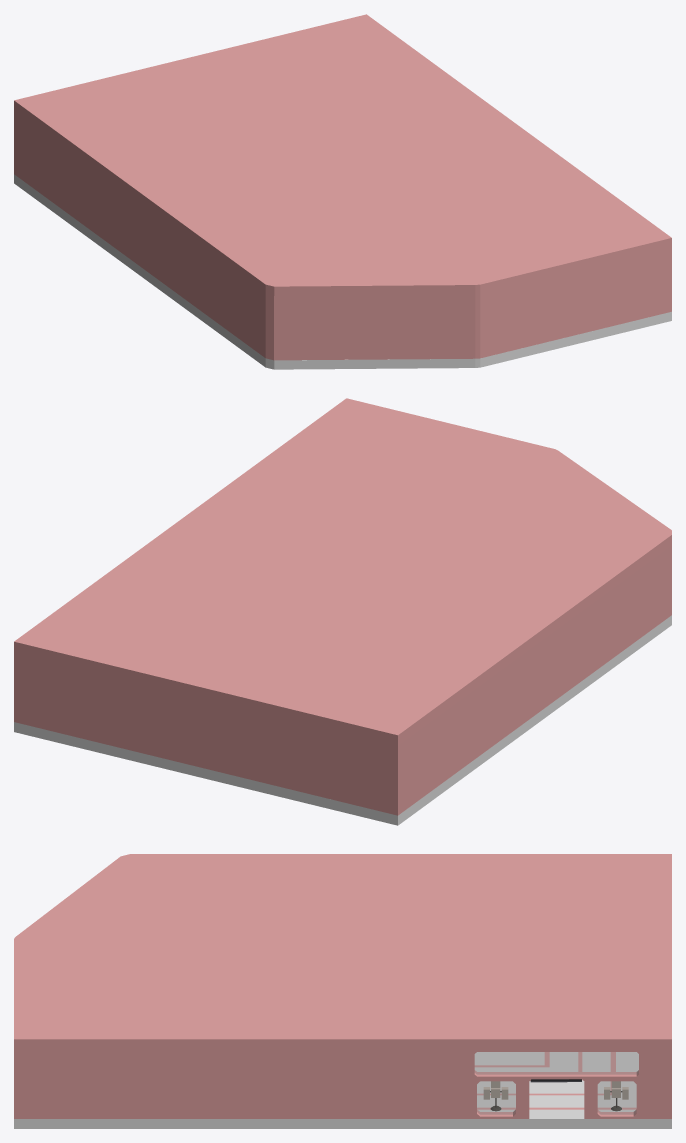
Rendered from Tienda de Disfraces.fbx.
The picture shows the model from 3 angles, top to bottom: view 1: azimuth 30°, elevation 25°; view 2: azimuth 150°, elevation 25°; view 3: azimuth 270°, elevation 25°; orthographic projection. The views are drawn at different scales.
Parts seen in each view (by area): view 1: Techo, pared_grande, Pared_mediana, Pared_mediana1, Piso_3, Esquina_1x10x27, Esquina_1x10x2, esquina_O_Pequeña; view 2: Techo, Pared_1x10x36, pared_grande, Piso_3, Esquina_1x10x2, Esquina_1x10x34; view 3: Techo, Fachada_3, Piso_3, Vidrio_Disc_3, Esquina_1x10x27, Esquina_1x10x34, Vidrio_DIs_1, Vidrio_Dis_2.
Boxes of the visible parts, <box> form: Techo: <box>14,14,671,295</box>; pared_grande: <box>24,117,265,357</box>; Pared_mediana: <box>274,294,475,360</box>; Pared_mediana1: <box>480,251,654,358</box>; Piso_3: <box>14,174,671,369</box>; Esquina_1x10x27: <box>654,247,671,315</box>; Esquina_1x10x2: <box>14,110,24,181</box>; esquina_O_Pequeña: <box>265,294,273,360</box>; Techo: <box>14,398,671,745</box>; Pared_1x10x36: <box>33,656,378,810</box>; pared_grande: <box>409,545,671,807</box>; Piso_3: <box>14,615,671,825</box>; Esquina_1x10x2: <box>378,737,408,815</box>; Esquina_1x10x34: <box>14,651,33,726</box>; Techo: <box>14,854,671,1049</box>; Fachada_3: <box>36,1049,649,1118</box>; Piso_3: <box>14,1052,671,1128</box>; Vidrio_Disc_3: <box>475,1052,638,1074</box>; Esquina_1x10x27: <box>14,1049,35,1118</box>; Esquina_1x10x34: <box>650,1049,671,1118</box>; Vidrio_DIs_1: <box>598,1081,636,1114</box>; Vidrio_Dis_2: <box>477,1081,515,1114</box>.
Bounding box in the file's own units: 40 × 9 × 60.01.
